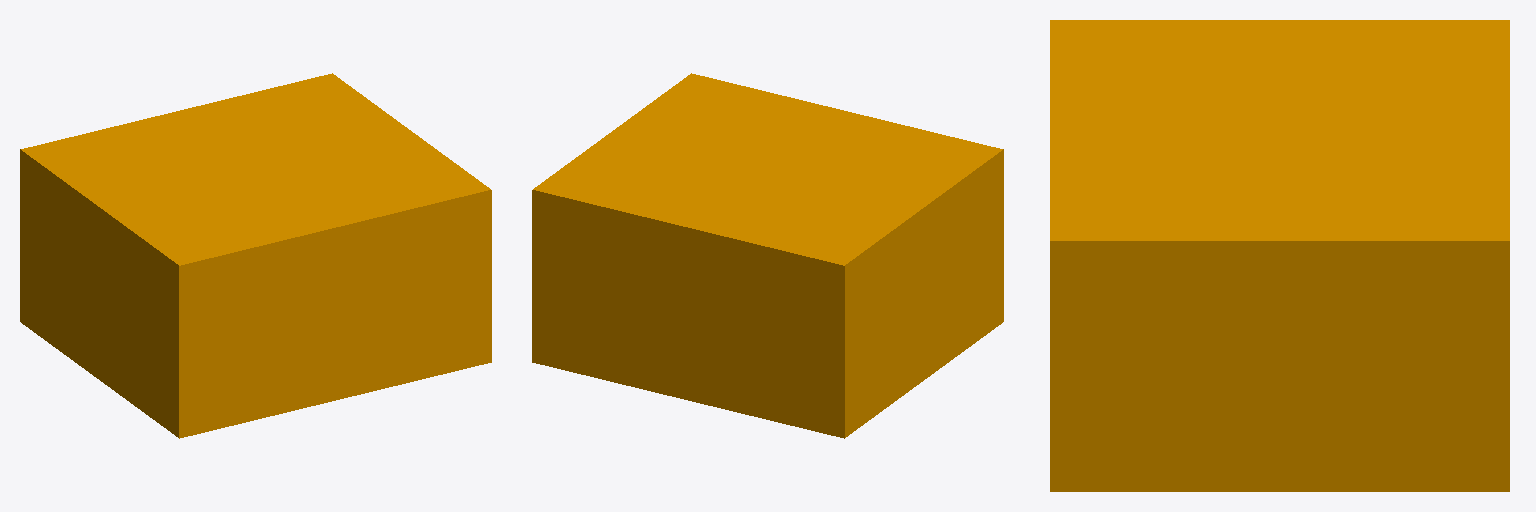
robot.urdf — object:
<?xml version="1.0"?>
<!-- Auto-generated by tools/gen_primitive_objects.py. kind=box dims=(0.085, 0.075, 0.045) -->
<robot name="object">
  <link name="object">
    <visual>
      <origin xyz="0 0 0"/>
      <geometry>
        <box size="0.085000 0.075000 0.045000"/>
      </geometry>
    </visual>
    <collision>
      <origin xyz="0 0 0"/>
      <geometry>
        <box size="0.085000 0.075000 0.045000"/>
      </geometry>
    </collision>
    <inertial>
      <mass value="0.057375"/>
      <inertia ixx="0.00003658" ixy="0.0" ixz="0.0" iyy="0.00004423" iyz="0.0" izz="0.00006144"/>
    </inertial>
  </link>
</robot>

--- Render facts (derived) ---
The picture shows the robot from 3 angles, left to right: view 1: azimuth 30°, elevation 25°; view 2: azimuth 150°, elevation 25°; view 3: azimuth 270°, elevation 25°; orthographic projection.
Robot: object — 1 links, 0 joints (none); root link object; default pose: every joint at zero.
Visible links, largest first — view 1: object; view 2: object; view 3: object.
Link boxes in pixels (x1=…): object: x1=20, y1=73, x2=491, y2=438; object: x1=532, y1=73, x2=1003, y2=438; object: x1=1050, y1=20, x2=1509, y2=491.
Size in the robot's own frame: 0.085 by 0.075 by 0.045 metres.
Geometry: primitives only (box / cylinder / sphere), no mesh files.
